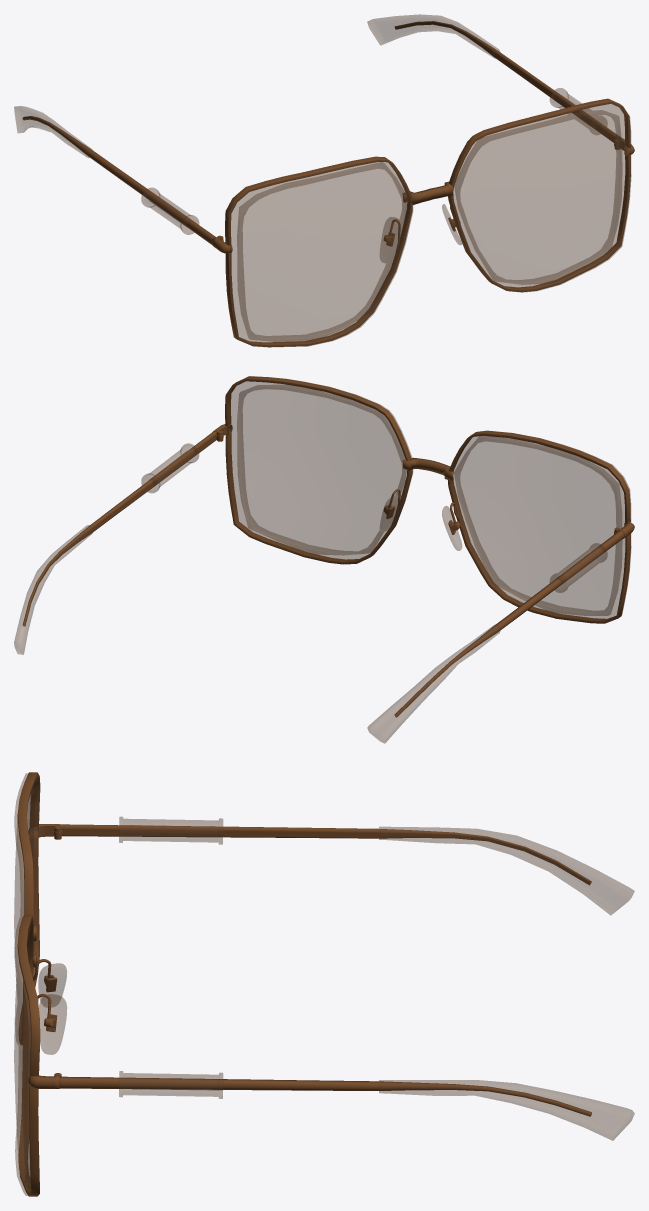
File: kare-cerceve-havana.glb
The picture shows the model from 3 angles, top to bottom: view 1: azimuth 30°, elevation 25°; view 2: azimuth 150°, elevation 25°; view 3: azimuth 270°, elevation 25°; orthographic projection. The views are drawn at different scales.
Parts seen in each view (by area): view 1: OPTIK_PRODUCT_282; view 2: OPTIK_PRODUCT_282; view 3: OPTIK_PRODUCT_282.
Boxes of the visible parts, box(x1,y1,x2,y2) form: OPTIK_PRODUCT_282: box(14, 14, 634, 347); OPTIK_PRODUCT_282: box(14, 376, 634, 743); OPTIK_PRODUCT_282: box(14, 772, 634, 1196).
Bounding box in the file's own units: 0.1621 × 0.0627 × 0.1604.
